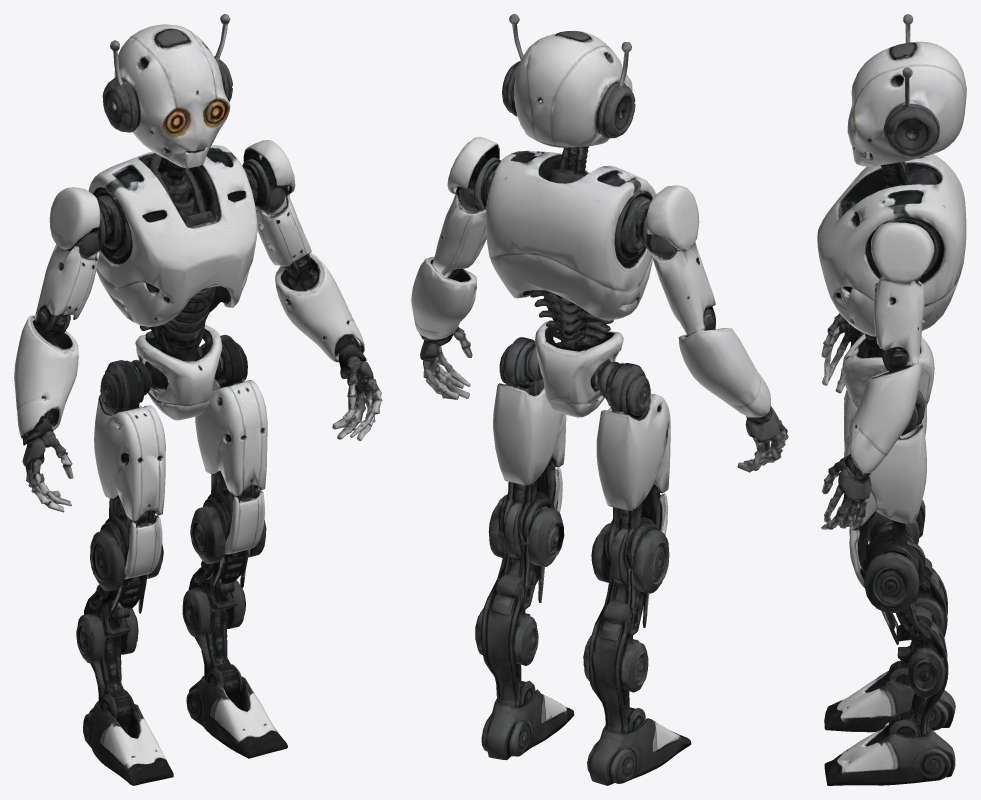
Rendered from robot-meshy7.glb.
3 renders of one model, left to right at view 1: azimuth 30°, elevation 25°; view 2: azimuth 150°, elevation 25°; view 3: azimuth 270°, elevation 25°, orthographic. The views are drawn at different scales.
Visible parts, largest first — view 1: mesh_node; view 2: mesh_node; view 3: mesh_node.
Part boxes in pixels (bbox=[...]): mesh_node: bbox=[14, 14, 382, 785]; mesh_node: bbox=[411, 14, 788, 785]; mesh_node: bbox=[817, 14, 966, 785].
Bounding box in the file's own units: 0.9756 × 1.9 × 0.364.
1 material, 1 textured.
